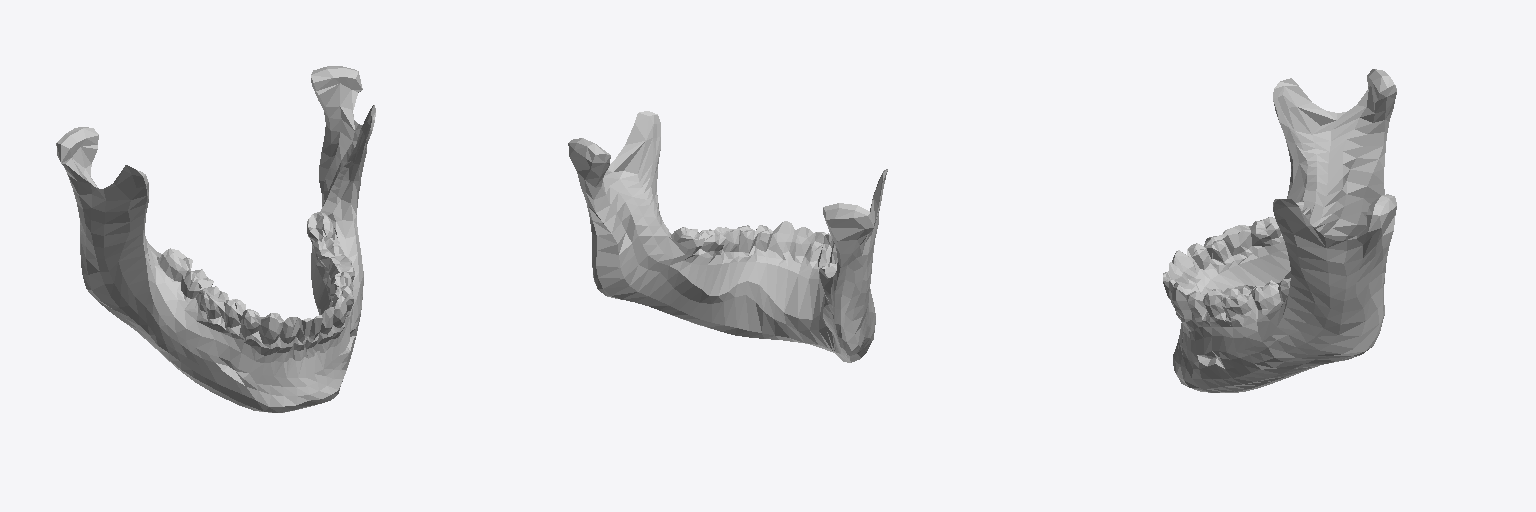
File: jaw.obj
The picture shows the model from 3 angles: view 1: azimuth 30°, elevation 25°; view 2: azimuth 150°, elevation 25°; view 3: azimuth 270°, elevation 25°; orthographic projection.
Parts seen in each view (by area): view 1: jaw, teeth; view 2: jaw, teeth; view 3: jaw, teeth.
Part boxes in pixels (x1,y1,x2,y2): jaw: (56,66,375,412); teeth: (158,212,354,344); jaw: (568,111,887,362); teeth: (671,221,837,281); jaw: (1173,69,1396,392); teeth: (1163,202,1310,318).
Bounding box in the file's own units: 4.4 × 3.34 × 2.96.